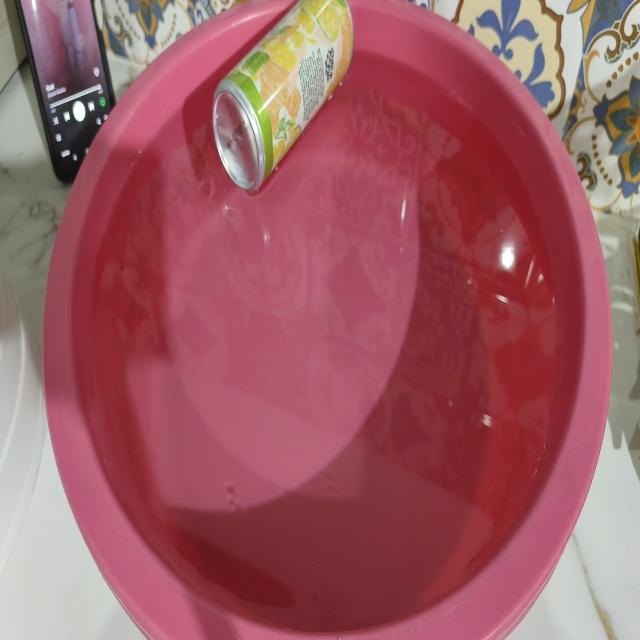Aluminum Can: (198, 0, 372, 211)
